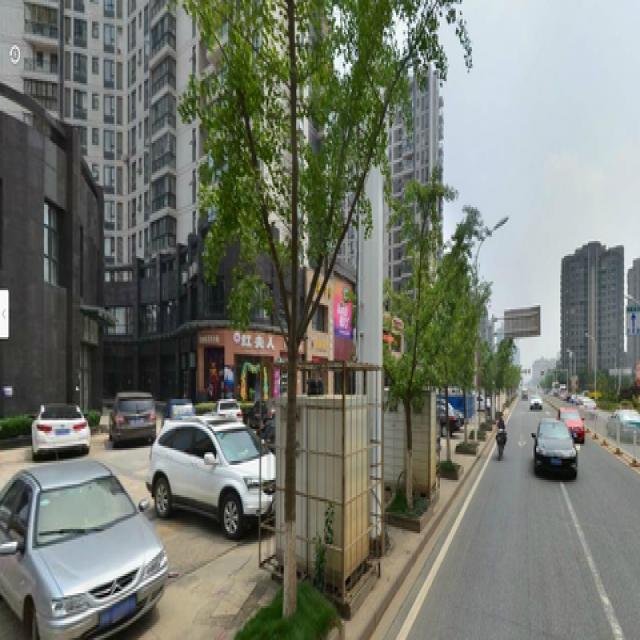gink: (220, 9, 355, 612)
